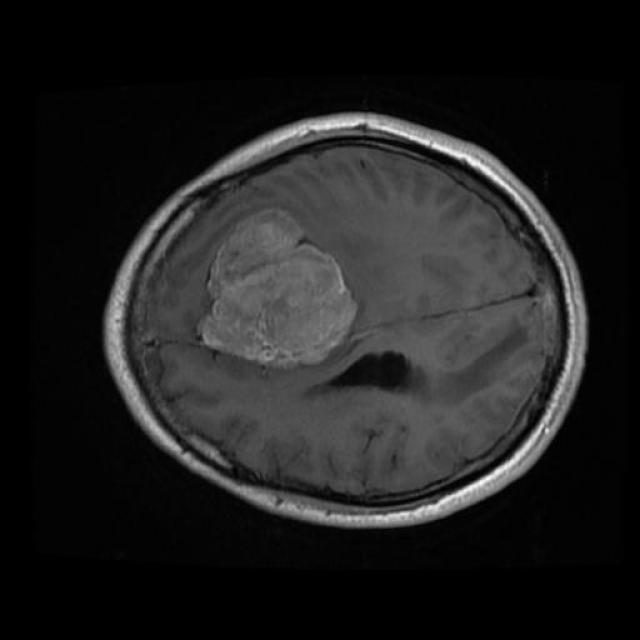Meningioma: (197, 211, 357, 367)
